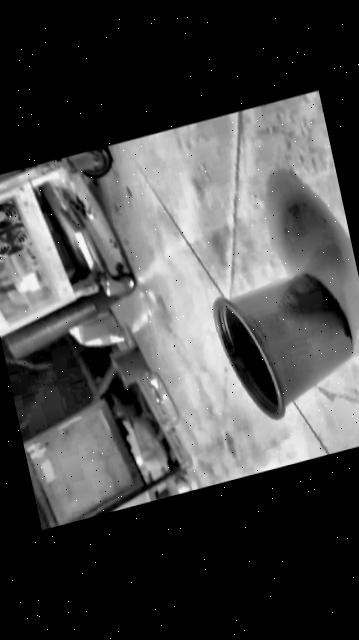pot: (209, 263, 359, 429)
